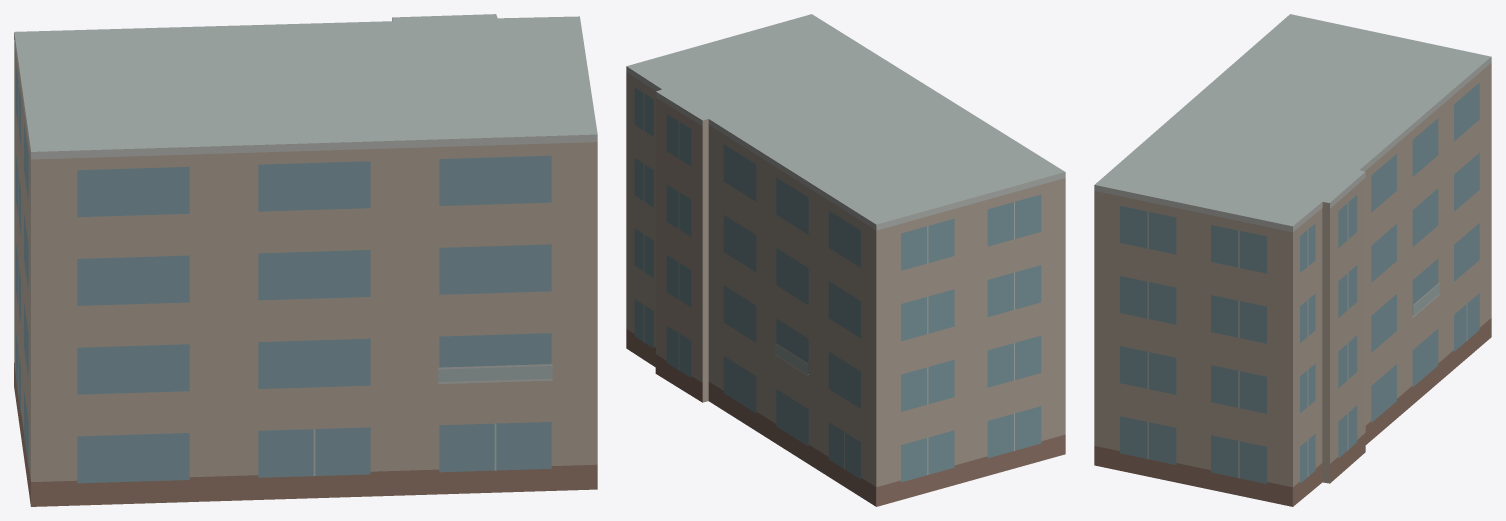
The model's file is survey-upis-32890108.glb.
3 views of the same model, side by side, from view 1: azimuth 30°, elevation 25°; view 2: azimuth 150°, elevation 25°; view 3: azimuth 270°, elevation 25° (orthographic). The views are drawn at different scales.
Parts seen in each view (by area): view 1: survey-upis-32890108.tmp; view 2: survey-upis-32890108.tmp; view 3: survey-upis-32890108.tmp.
Boxes of the visible parts, x1,y1,x2,y2 form: survey-upis-32890108.tmp: [14, 14, 597, 506]; survey-upis-32890108.tmp: [626, 14, 1065, 506]; survey-upis-32890108.tmp: [1094, 14, 1491, 506].
Size of the model in its own units: 18.84 by 11.6 by 14.89.
